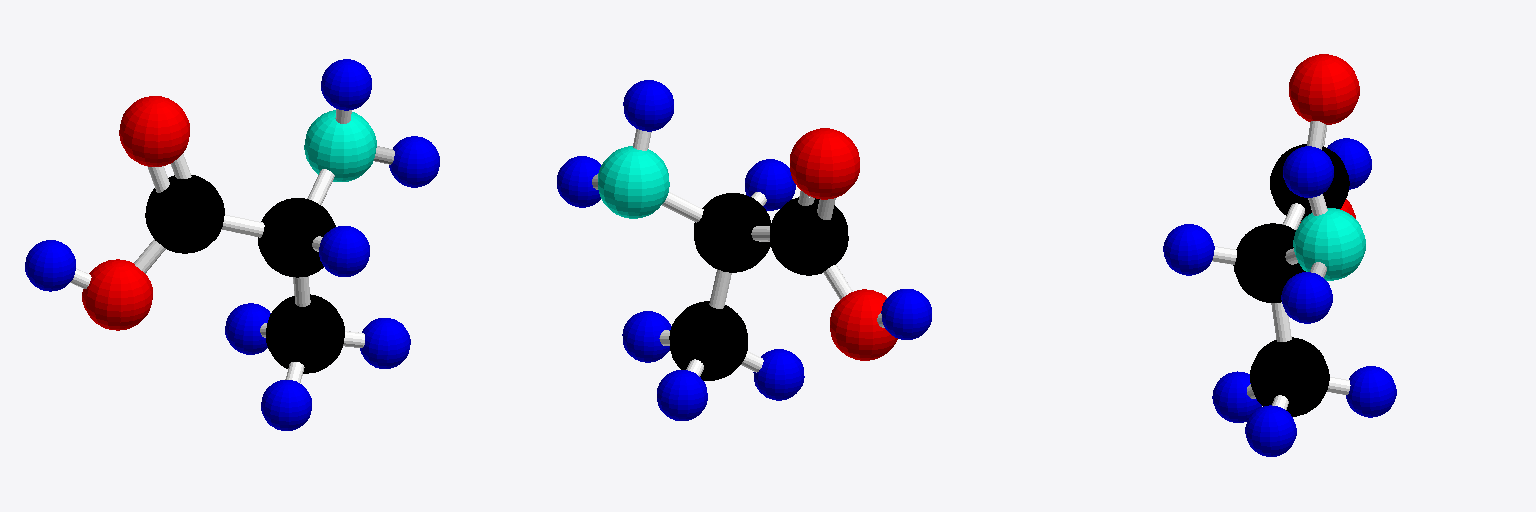
File: alanina.obj
3 views of the same model, side by side, from view 1: azimuth 30°, elevation 25°; view 2: azimuth 150°, elevation 25°; view 3: azimuth 270°, elevation 25° (orthographic).
Visible parts, largest first — view 1: Shape_Sphere.005_Shape_Sphere.006, Shape_Sphere.001_Shape_Sphere.002, Shape_Sphere_Shape_Sphere.001, Shape_Sphere.008_Shape_Sphere.009, Shape_Sphere.006_Shape_Sphere.007, Shape_Sphere.009_Shape_Sphere.010, Shape_Sphere.004_Shape_Sphere.005, Shape_Sphere.007_Shape_Sphere.008, Shape_Sphere.010_Shape_Sphere.011, Shape_Sphere.012_Shape_Sphere, Shape_Sphere.011_Shape_Sphere.012, Shape_Sphere.002_Shape_Sphere.003 (+1 smaller); view 2: Shape_Sphere.001_Shape_Sphere.002, Shape_Sphere_Shape_Sphere.001, Shape_Sphere.005_Shape_Sphere.006, Shape_Sphere.009_Shape_Sphere.010, Shape_Sphere.008_Shape_Sphere.009, Shape_Sphere.006_Shape_Sphere.007, Shape_Sphere.003_Shape_Sphere.004, Shape_Sphere.012_Shape_Sphere, Shape_Sphere.007_Shape_Sphere.008, Shape_Sphere.004_Shape_Sphere.005, Shape_Sphere.002_Shape_Sphere.003, Shape_Sphere.010_Shape_Sphere.011 (+1 smaller); view 3: Shape_Sphere.001_Shape_Sphere.002, Shape_Sphere.008_Shape_Sphere.009, Shape_Sphere.009_Shape_Sphere.010, Shape_Sphere_Shape_Sphere.001, Shape_Sphere.011_Shape_Sphere.012, Shape_Sphere.002_Shape_Sphere.003, Shape_Sphere.012_Shape_Sphere, Shape_Sphere.010_Shape_Sphere.011, Shape_Sphere.005_Shape_Sphere.006, Shape_Sphere.003_Shape_Sphere.004, Shape_Sphere.004_Shape_Sphere.005, Shape_Sphere.007_Shape_Sphere.008.
Boxes of the visible parts, x1,y1,x2,y2 form: Shape_Sphere.005_Shape_Sphere.006: [145, 175, 224, 253]; Shape_Sphere.001_Shape_Sphere.002: [266, 294, 344, 373]; Shape_Sphere_Shape_Sphere.001: [258, 198, 335, 277]; Shape_Sphere.008_Shape_Sphere.009: [119, 96, 189, 166]; Shape_Sphere.006_Shape_Sphere.007: [82, 259, 152, 330]; Shape_Sphere.009_Shape_Sphere.010: [304, 110, 376, 181]; Shape_Sphere.004_Shape_Sphere.005: [261, 380, 311, 430]; Shape_Sphere.007_Shape_Sphere.008: [25, 240, 75, 291]; Shape_Sphere.010_Shape_Sphere.011: [319, 226, 369, 276]; Shape_Sphere.012_Shape_Sphere: [321, 59, 371, 110]; Shape_Sphere.011_Shape_Sphere.012: [389, 136, 439, 187]; Shape_Sphere.002_Shape_Sphere.003: [360, 318, 410, 368]; Shape_Sphere.001_Shape_Sphere.002: [669, 301, 747, 380]; Shape_Sphere_Shape_Sphere.001: [694, 193, 770, 272]; Shape_Sphere.005_Shape_Sphere.006: [770, 197, 848, 275]; Shape_Sphere.009_Shape_Sphere.010: [598, 146, 669, 218]; Shape_Sphere.008_Shape_Sphere.009: [790, 128, 859, 199]; Shape_Sphere.006_Shape_Sphere.007: [830, 289, 897, 360]; Shape_Sphere.003_Shape_Sphere.004: [657, 370, 707, 420]; Shape_Sphere.012_Shape_Sphere: [623, 80, 673, 131]; Shape_Sphere.007_Shape_Sphere.008: [881, 289, 931, 339]; Shape_Sphere.004_Shape_Sphere.005: [753, 349, 804, 400]; Shape_Sphere.002_Shape_Sphere.003: [622, 311, 671, 362]; Shape_Sphere.010_Shape_Sphere.011: [745, 159, 795, 210]; Shape_Sphere.001_Shape_Sphere.002: [1250, 337, 1329, 416]; Shape_Sphere.008_Shape_Sphere.009: [1289, 54, 1359, 124]; Shape_Sphere.009_Shape_Sphere.010: [1293, 208, 1365, 280]; Shape_Sphere_Shape_Sphere.001: [1233, 223, 1305, 302]; Shape_Sphere.011_Shape_Sphere.012: [1281, 272, 1332, 323]; Shape_Sphere.002_Shape_Sphere.003: [1245, 405, 1296, 456]; Shape_Sphere.012_Shape_Sphere: [1283, 146, 1333, 197]; Shape_Sphere.010_Shape_Sphere.011: [1163, 224, 1214, 275]; Shape_Sphere.005_Shape_Sphere.006: [1270, 144, 1349, 220]; Shape_Sphere.003_Shape_Sphere.004: [1346, 366, 1396, 417]; Shape_Sphere.004_Shape_Sphere.005: [1212, 371, 1261, 422]; Shape_Sphere.007_Shape_Sphere.008: [1327, 138, 1371, 189].
Bounding box in the file's own units: 5.72 × 4.49 × 2.97.